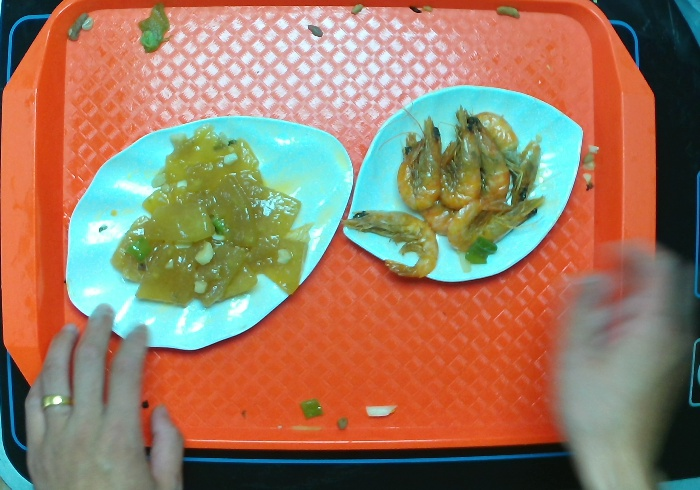RJxy-Bai_Ye_Pan: (59, 111, 358, 355)
RJxy-Da_Du_Pan: (332, 82, 591, 289)
